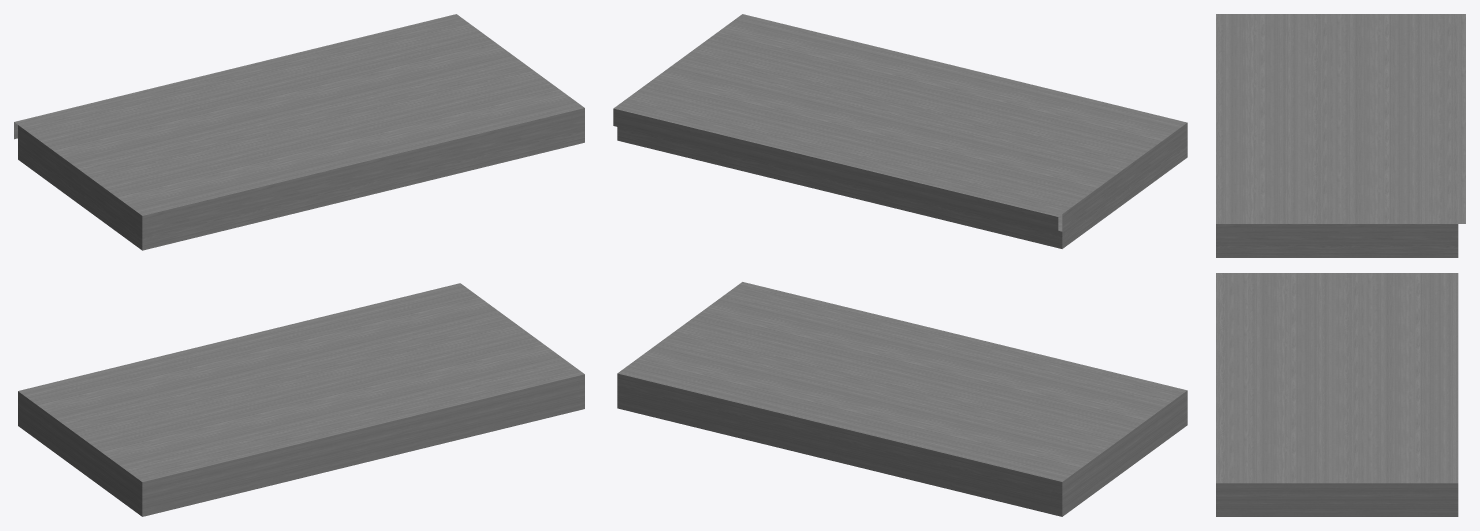
Rendered from Natuzzi-Kubika-W010-37-4.obj.
3 views of the same model, side by side, from view 1: azimuth 30°, elevation 25°; view 2: azimuth 150°, elevation 25°; view 3: azimuth 270°, elevation 25° (orthographic). The views are drawn at different scales.
Parts seen in each view (by area): view 1: Mesh1 Natuzzi_Zelig_W010_37_4 Model, Mesh2 Natuzzi_Zelig_W010_37_4 Model; view 2: Mesh1 Natuzzi_Zelig_W010_37_4 Model, Mesh2 Natuzzi_Zelig_W010_37_4 Model; view 3: Mesh1 Natuzzi_Zelig_W010_37_4 Model, Mesh2 Natuzzi_Zelig_W010_37_4 Model.
Part boxes in pixels (x1,y1,x2,y2): Mesh1 Natuzzi_Zelig_W010_37_4 Model: [14, 14, 584, 250]; Mesh2 Natuzzi_Zelig_W010_37_4 Model: [18, 283, 584, 516]; Mesh1 Natuzzi_Zelig_W010_37_4 Model: [613, 14, 1187, 248]; Mesh2 Natuzzi_Zelig_W010_37_4 Model: [617, 282, 1187, 516]; Mesh1 Natuzzi_Zelig_W010_37_4 Model: [1216, 14, 1465, 257]; Mesh2 Natuzzi_Zelig_W010_37_4 Model: [1216, 273, 1458, 516].
Bounding box in the file's own units: 31.5 × 20.47 × 15.83.
Materials: 1 (1 with a texture image).
